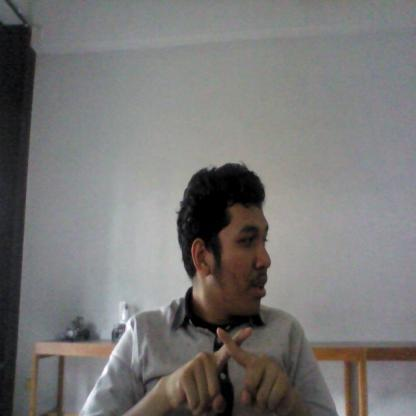X: (168, 324, 294, 414)
